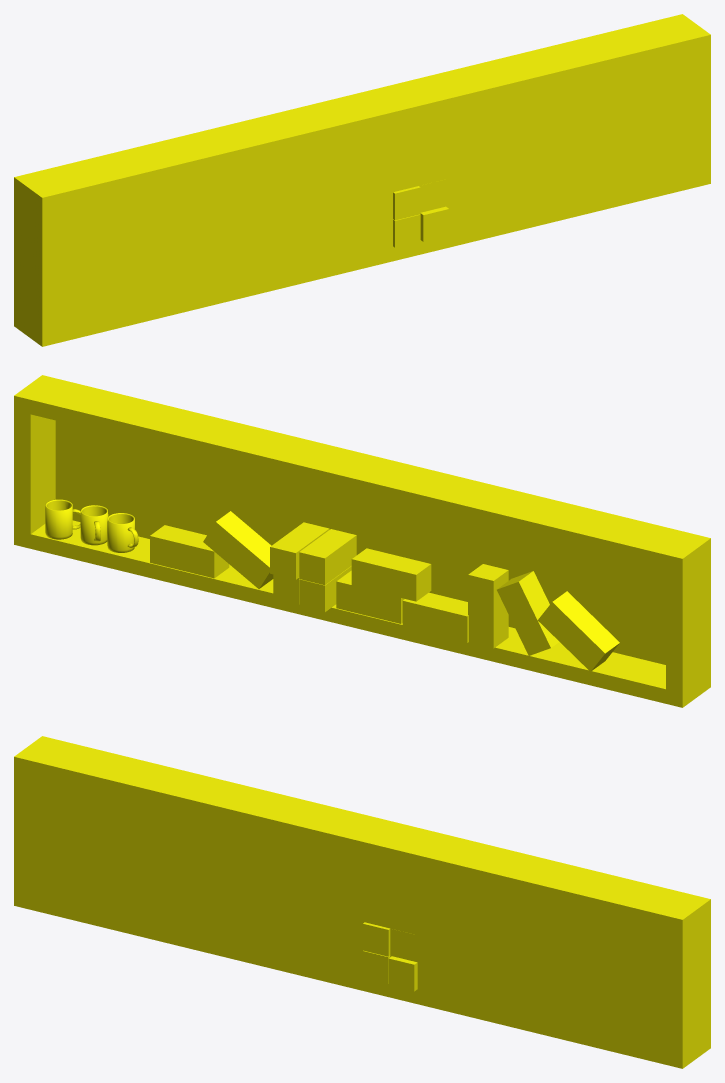
Rendered from shelf.FBX.
3 renders of one model, top to bottom at view 1: azimuth 30°, elevation 25°; view 2: azimuth 150°, elevation 25°; view 3: azimuth 330°, elevation 25°, orthographic.
Parts seen in each view (by area): view 1: shelf; view 2: shelf; view 3: shelf.
Boxes of the visible parts, x1=… form: shelf: x1=14, y1=14, x2=710, y2=346; shelf: x1=14, y1=375, x2=710, y2=707; shelf: x1=14, y1=736, x2=710, y2=1068.
Size of the model in its own units: 2.51 by 0.263 by 0.5346.
